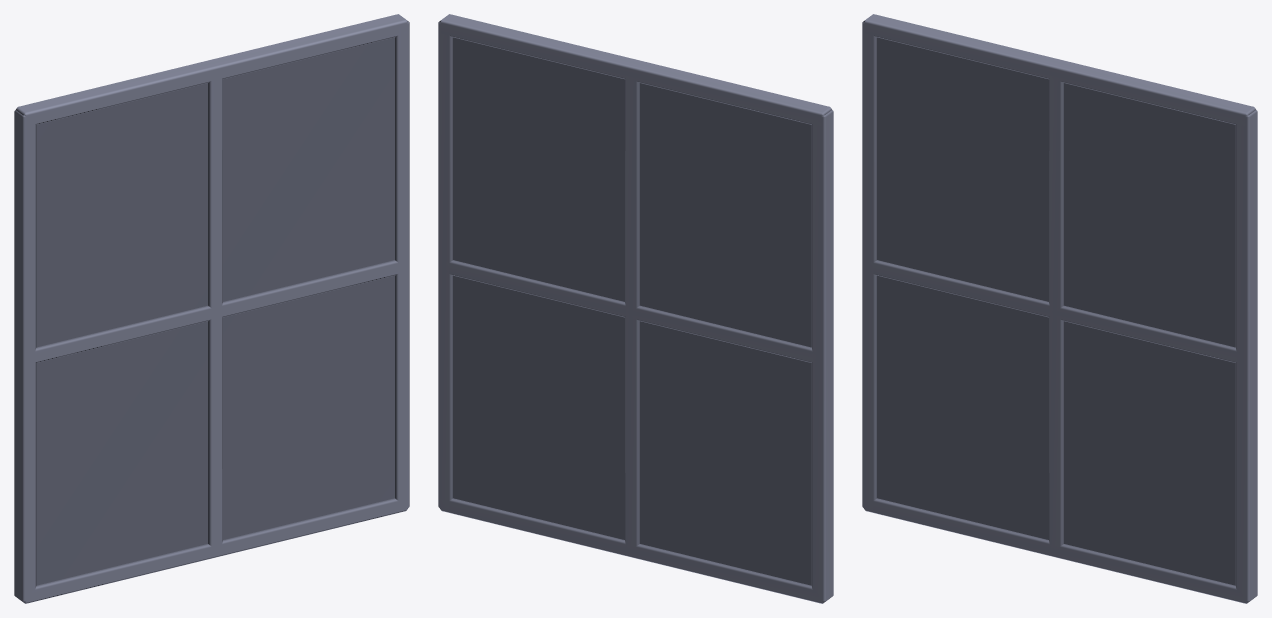
The model's file is leaded-glass.glb.
The picture shows the model from 3 angles, left to right: view 1: azimuth 30°, elevation 25°; view 2: azimuth 150°, elevation 25°; view 3: azimuth 330°, elevation 25°; orthographic projection.
Visible parts, largest first — view 1: body; view 2: body; view 3: body.
Part boxes in pixels (x1,y1,x2,y2): body: [14, 14, 409, 603]; body: [438, 14, 833, 603]; body: [862, 14, 1257, 603].
Size of what is drawn, in the model's own units: 0.665 by 0.805 by 0.03.
